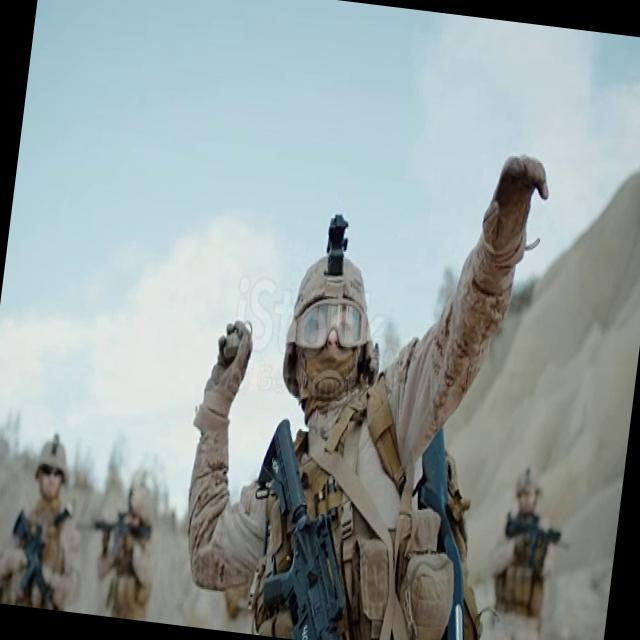grenade: (218, 314, 256, 364)
